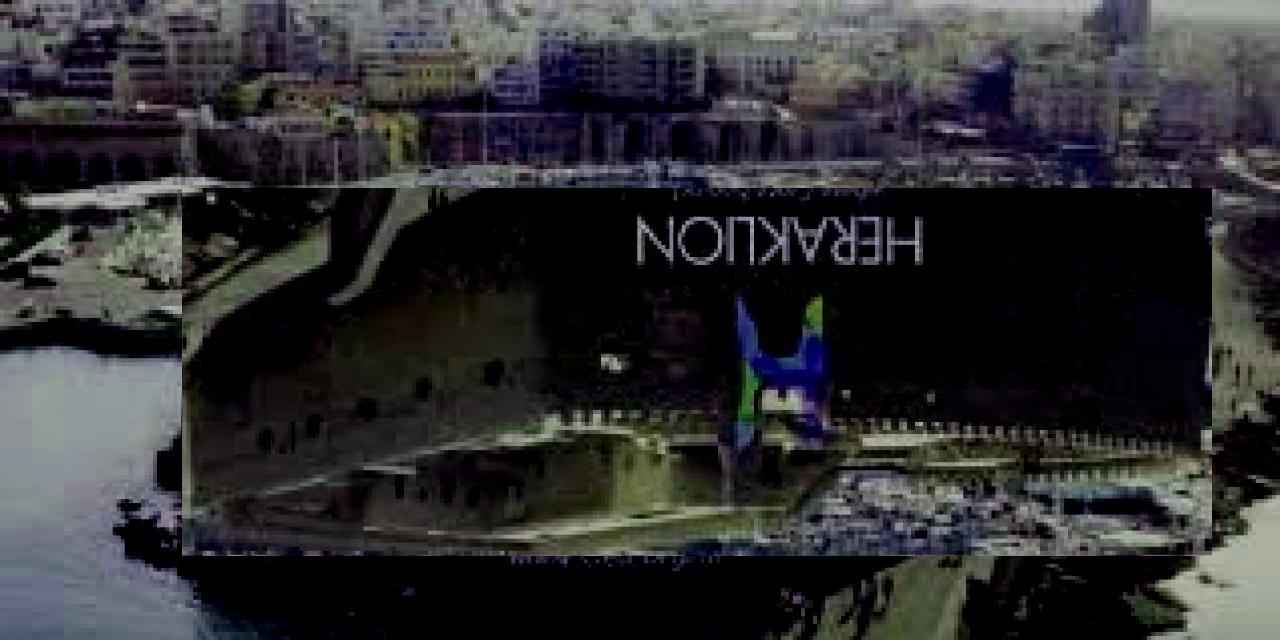Kules: (183, 189, 1213, 557)
